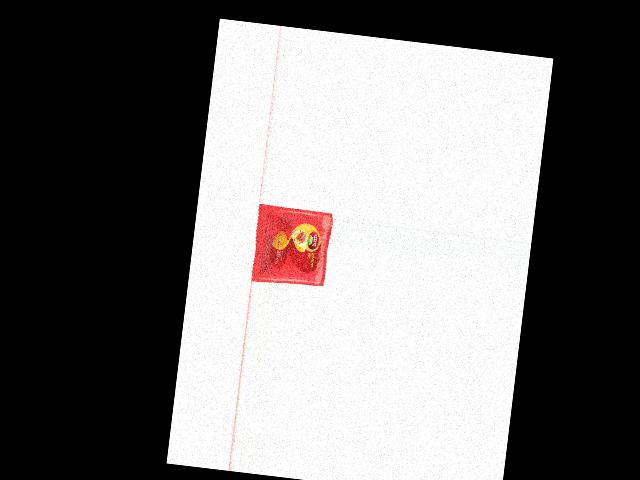cheese: (249, 203, 333, 287)
